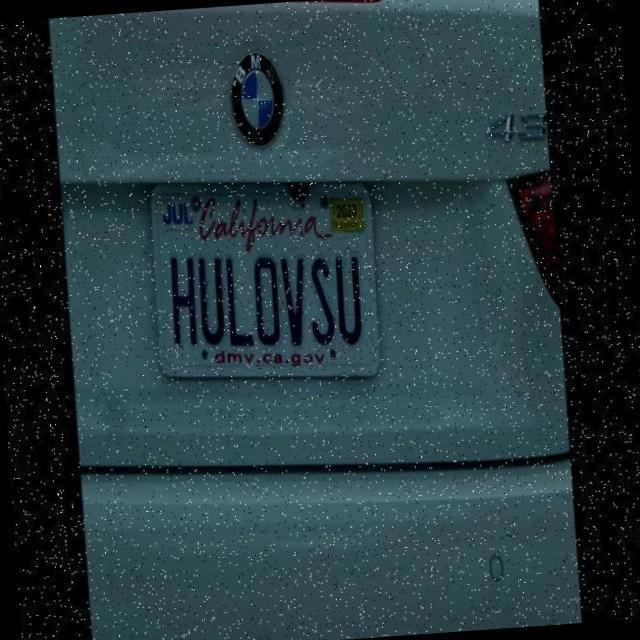License Plate: (147, 172, 381, 388)
